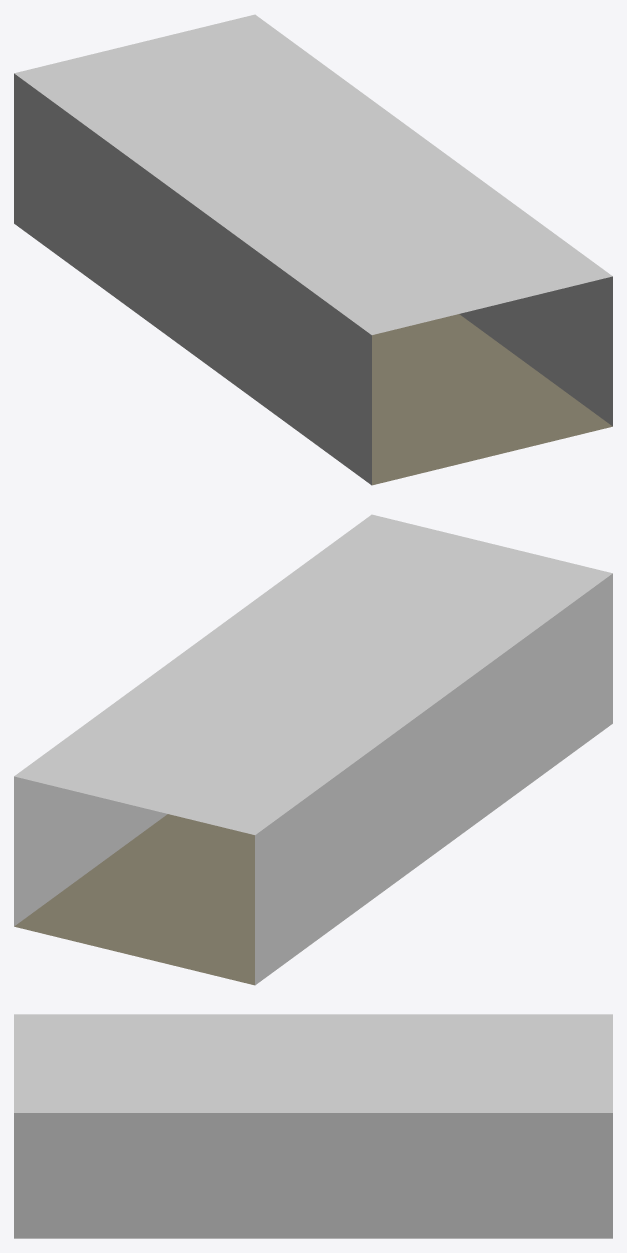
Rendered from CinemaMesh.fbx.
The picture shows the model from 3 angles, top to bottom: view 1: azimuth 30°, elevation 25°; view 2: azimuth 150°, elevation 25°; view 3: azimuth 270°, elevation 25°; orthographic projection. The views are drawn at different scales.
Parts seen in each view (by area): view 1: cinema; view 2: cinema; view 3: cinema.
Part boxes in pixels (bbox=[...]): cinema: bbox=[14, 14, 612, 485]; cinema: bbox=[14, 514, 612, 985]; cinema: bbox=[14, 1014, 612, 1238].
Bounding box in the file's own units: 986 × 587 × 2534.
